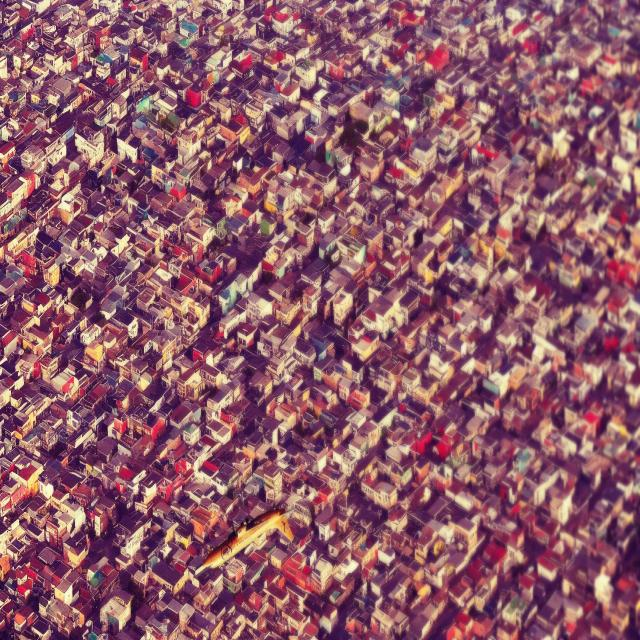airplane: (193, 508, 294, 578)
